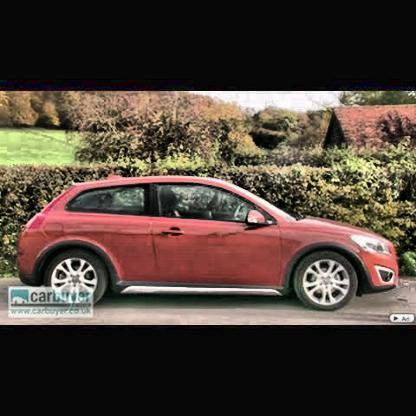Volvo C30 Hatchback 2012: (14, 176, 400, 309)
